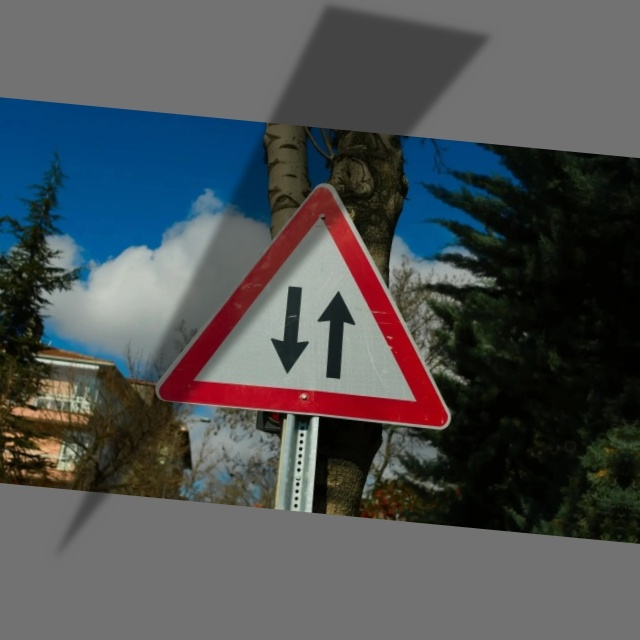Mandatory_Two_Way_Traffic: (155, 170, 472, 435)
